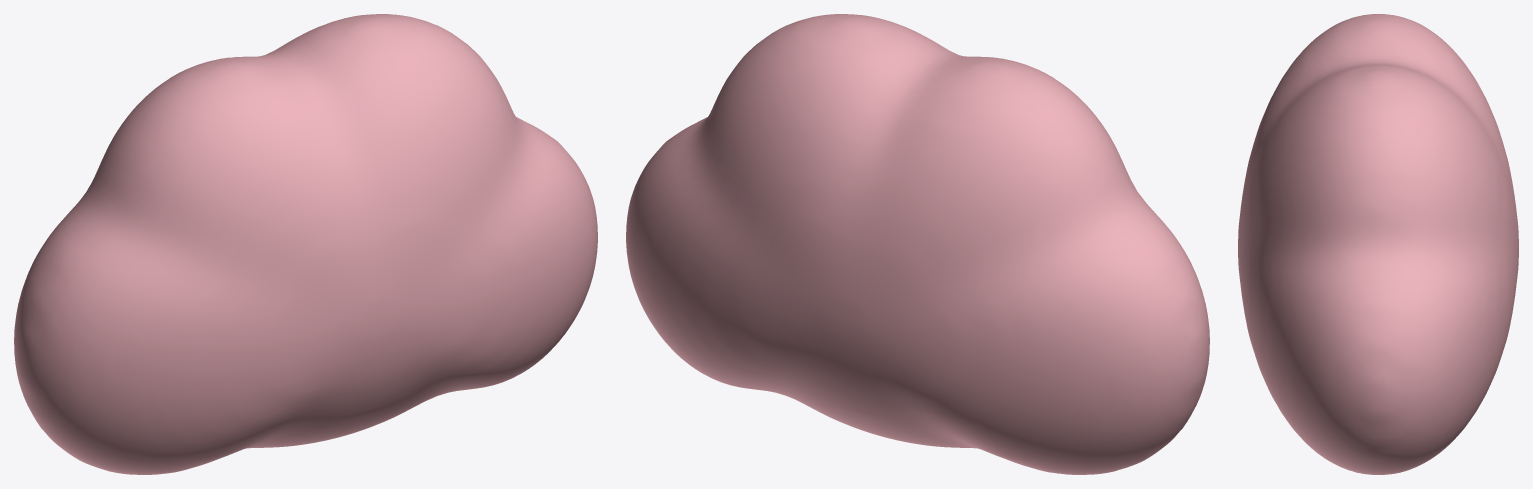
The model's file is squishy-cloud.glb.
3 views of the same model, side by side, from view 1: azimuth 30°, elevation 25°; view 2: azimuth 150°, elevation 25°; view 3: azimuth 270°, elevation 25° (orthographic). The views are drawn at different scales.
Parts seen in each view (by area): view 1: Squishy_Surface; view 2: Squishy_Surface; view 3: Squishy_Surface.
Boxes of the visible parts, bbox=[...] form: Squishy_Surface: bbox=[14, 14, 597, 474]; Squishy_Surface: bbox=[626, 14, 1209, 474]; Squishy_Surface: bbox=[1238, 14, 1518, 474].
Size of the model in its own units: 2.86 by 1.89 by 1.35.
